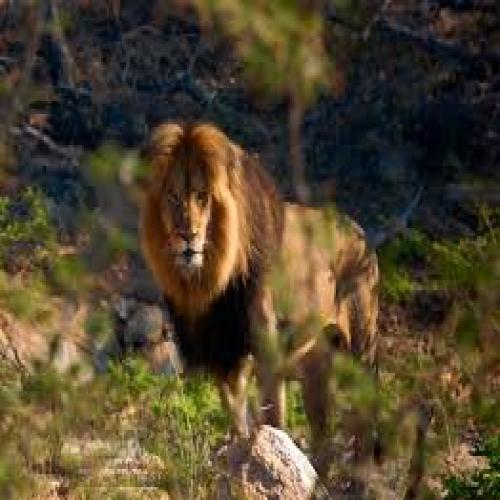lion-endangered: (141, 126, 379, 470)
